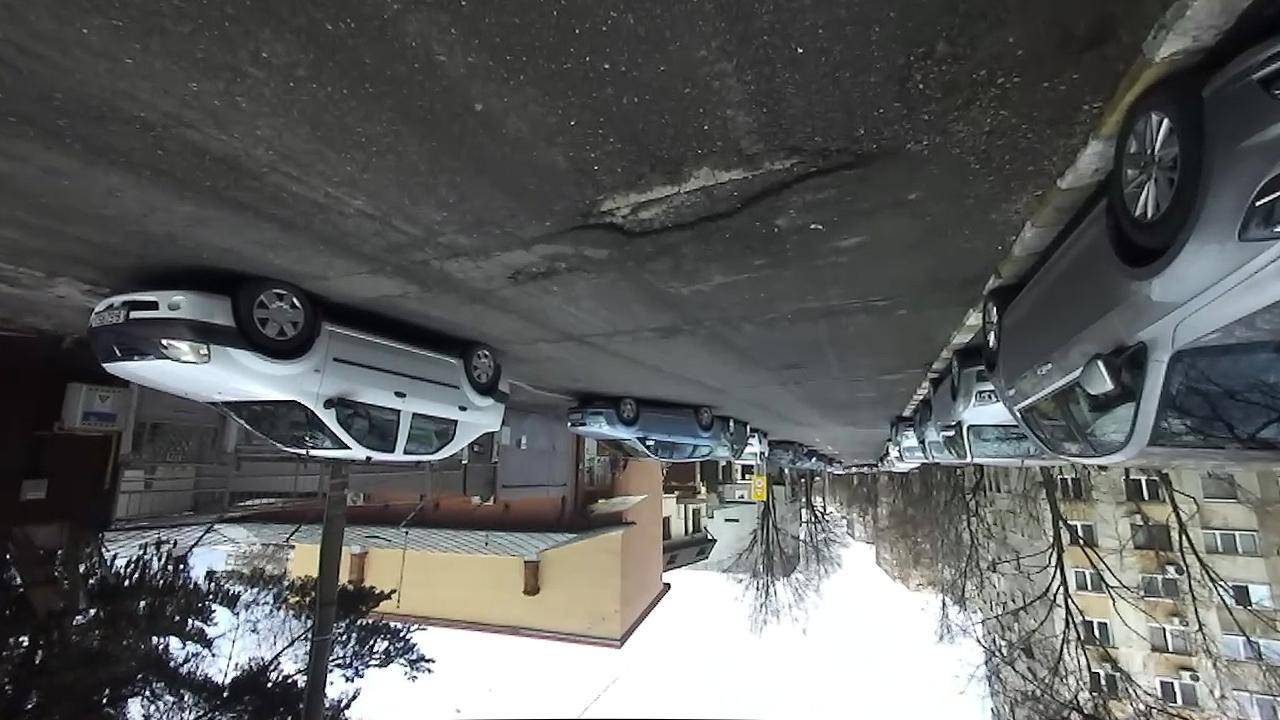pothole: (544, 139, 885, 245), (501, 258, 593, 292)
